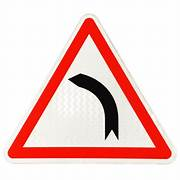left: (6, 13, 174, 159)
